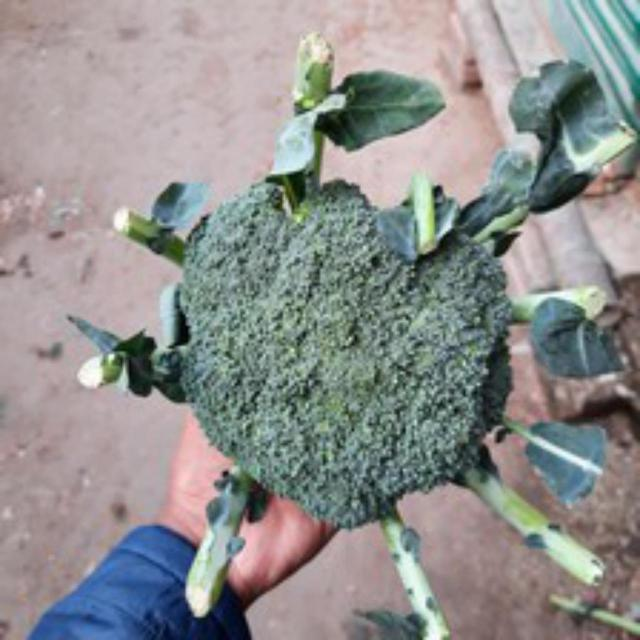broccoli: (184, 181, 502, 510)
